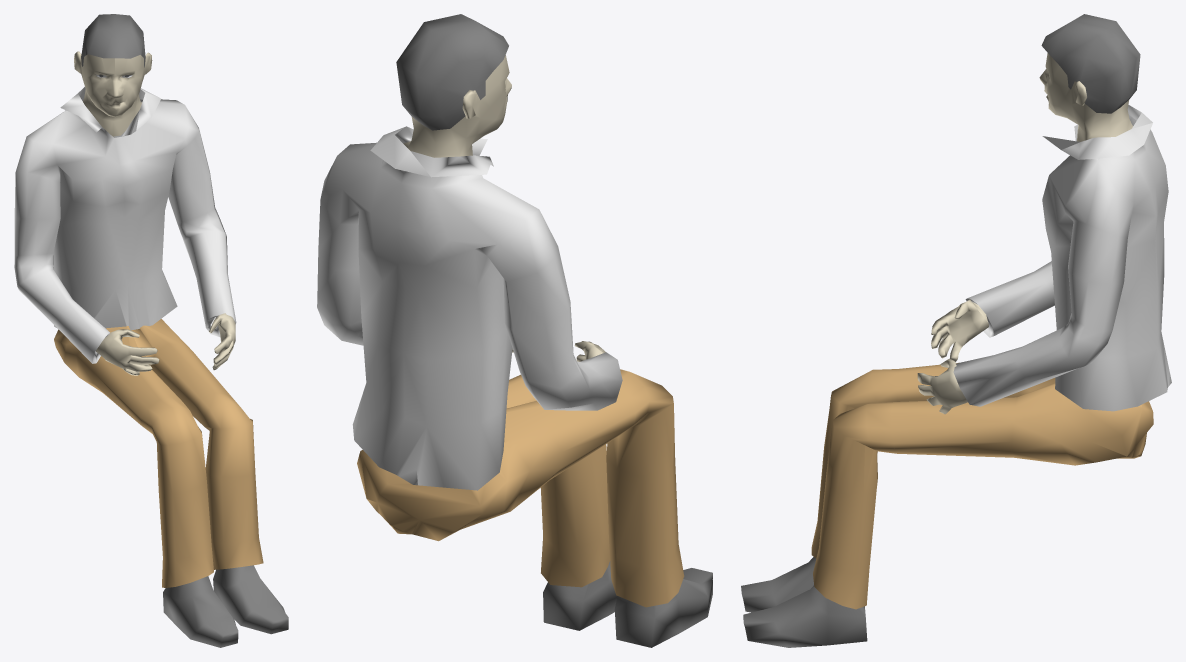
The model's file is personsit.glb.
The picture shows the model from 3 angles, left to right: view 1: azimuth 30°, elevation 25°; view 2: azimuth 150°, elevation 25°; view 3: azimuth 270°, elevation 25°; orthographic projection. The views are drawn at different scales.
Parts seen in each view (by area): view 1: coords_ME_ID11_MA_Shape_003, coords_ME_ID39_MA_Shape_10, coords_ME_ID3_MA_Shape_8, coords_ME_ID19_MA_Shape_9, coords_ME_ID47_MA_Shape_9, coords_ME_ID33_MA_Shape_9, coords_ME_ID67_MA_Shape_8, coords_ME_ID27_MA_Shape_8; view 2: coords_ME_ID11_MA_Shape_003, coords_ME_ID39_MA_Shape_10, coords_ME_ID33_MA_Shape_9, coords_ME_ID19_MA_Shape_9, coords_ME_ID3_MA_Shape_8, coords_ME_ID47_MA_Shape_9; view 3: coords_ME_ID11_MA_Shape_003, coords_ME_ID39_MA_Shape_10, coords_ME_ID33_MA_Shape_9, coords_ME_ID47_MA_Shape_9, coords_ME_ID3_MA_Shape_8, coords_ME_ID67_MA_Shape_8, coords_ME_ID19_MA_Shape_9, coords_ME_ID27_MA_Shape_8.
Part boxes in pixels (box(x1,y1,x2,y2)): coords_ME_ID11_MA_Shape_003: box(14, 87, 236, 363); coords_ME_ID39_MA_Shape_10: box(54, 319, 263, 587); coords_ME_ID3_MA_Shape_8: box(74, 51, 152, 136); coords_ME_ID19_MA_Shape_9: box(163, 576, 238, 647); coords_ME_ID47_MA_Shape_9: box(213, 565, 288, 634); coords_ME_ID33_MA_Shape_9: box(81, 14, 145, 67); coords_ME_ID67_MA_Shape_8: box(96, 329, 159, 375); coords_ME_ID27_MA_Shape_8: box(209, 313, 235, 370); coords_ME_ID11_MA_Shape_003: box(317, 126, 622, 490); coords_ME_ID39_MA_Shape_10: box(357, 369, 684, 607); coords_ME_ID33_MA_Shape_9: box(396, 14, 508, 130); coords_ME_ID19_MA_Shape_9: box(614, 568, 712, 647); coords_ME_ID3_MA_Shape_8: box(403, 55, 511, 157); coords_ME_ID47_MA_Shape_9: box(543, 561, 617, 630); coords_ME_ID11_MA_Shape_003: box(953, 105, 1171, 411); coords_ME_ID39_MA_Shape_10: box(811, 362, 1153, 609); coords_ME_ID33_MA_Shape_9: box(1041, 14, 1140, 113); coords_ME_ID47_MA_Shape_9: box(743, 585, 867, 647); coords_ME_ID3_MA_Shape_8: box(1039, 53, 1133, 141); coords_ME_ID67_MA_Shape_8: box(931, 299, 988, 361); coords_ME_ID19_MA_Shape_9: box(741, 557, 816, 612); coords_ME_ID27_MA_Shape_8: box(917, 358, 967, 414).
Size of the model in its own units: 6.97 by 16.95 by 10.99.
